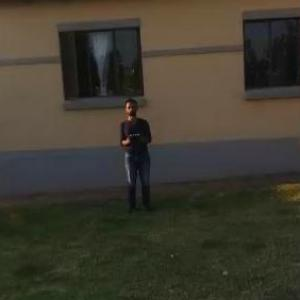follow: (117, 91, 157, 218)
